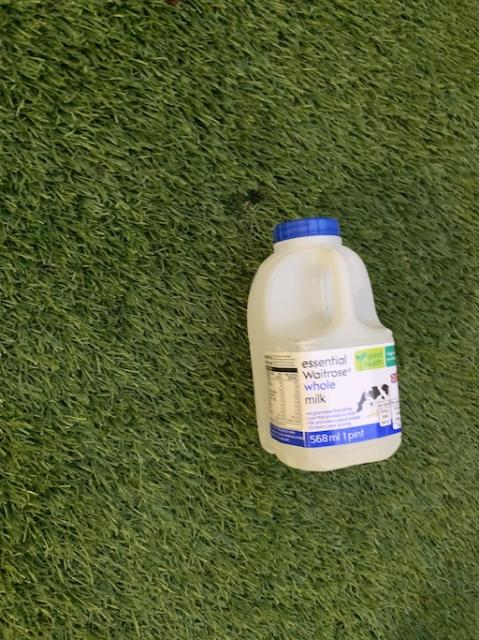plastic: (246, 216, 400, 469)
